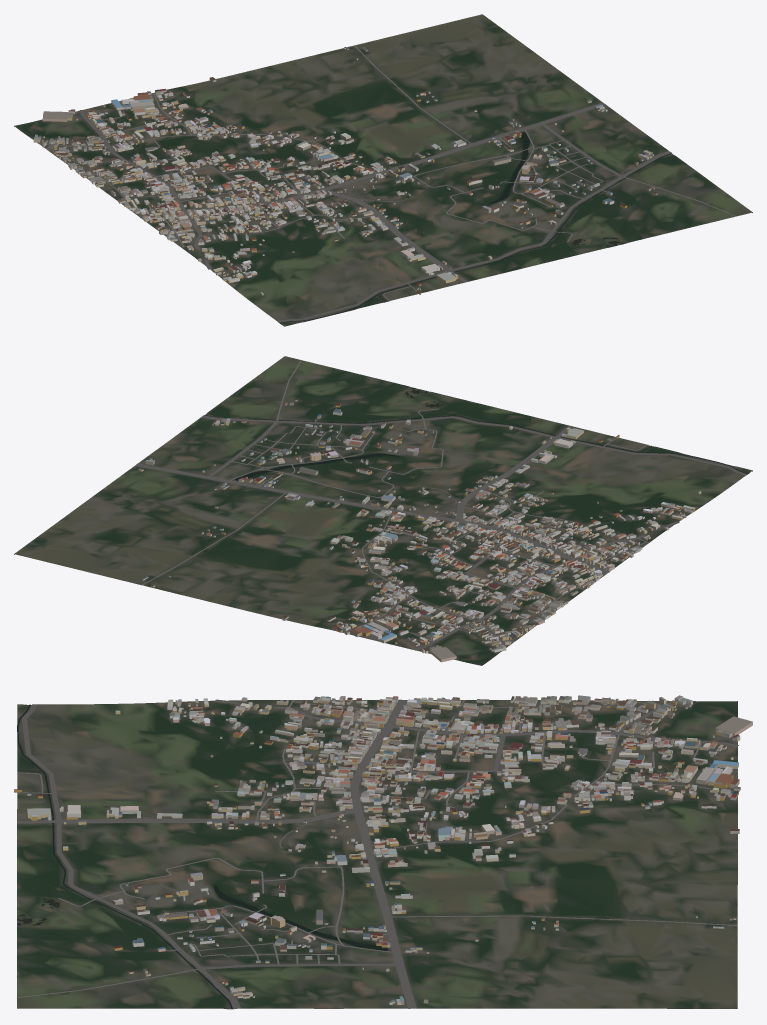
3 views of the same model, one above another, from view 1: azimuth 30°, elevation 25°; view 2: azimuth 150°, elevation 25°; view 3: azimuth 270°, elevation 25° (orthographic). The views are drawn at different scales.
Visible parts, largest first — view 1: ground, buildings, roads, water; view 2: ground, buildings, roads, water; view 3: ground, buildings, roads, water.
Boxes of the visible parts, left/top/right/bottom form: ground: left=14, top=14, right=752, bottom=326; buildings: left=33, top=47, right=657, bottom=295; roads: left=37, top=45, right=736, bottom=322; water: left=280, top=132, right=671, bottom=323; ground: left=14, top=356, right=752, bottom=665; buildings: left=138, top=398, right=701, bottom=662; roads: left=135, top=360, right=747, bottom=650; water: left=204, top=387, right=747, bottom=480; ground: left=17, top=700, right=737, bottom=1009; buildings: left=14, top=695, right=752, bottom=1004; roads: left=17, top=699, right=738, bottom=1008; water: left=17, top=704, right=388, bottom=1008.
Size of the model in its own units: 1409 by 27 by 1436.
